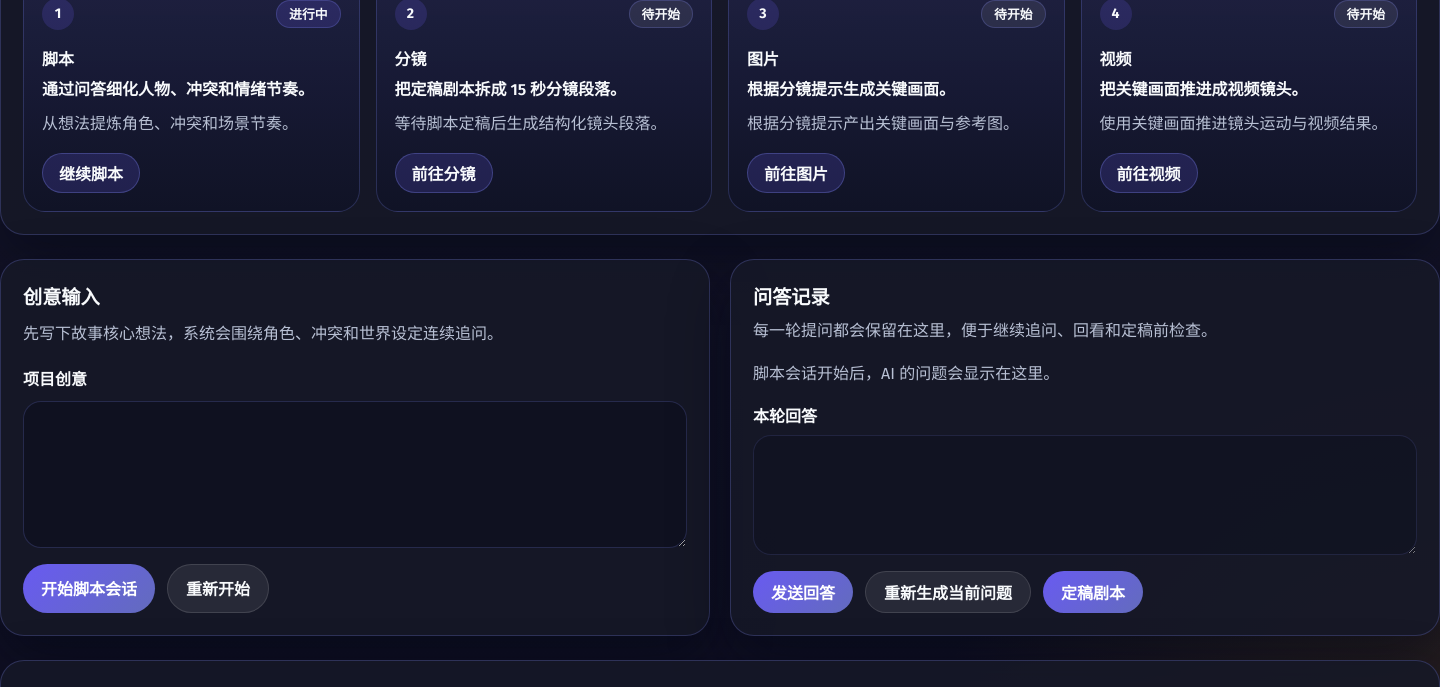
Test case: project script page › clears the editable idea input when resetting the session
(page scrolled)
Type "Updated session idea" into the text box named "Script idea input" at (355, 475), box [23,401,687,548]
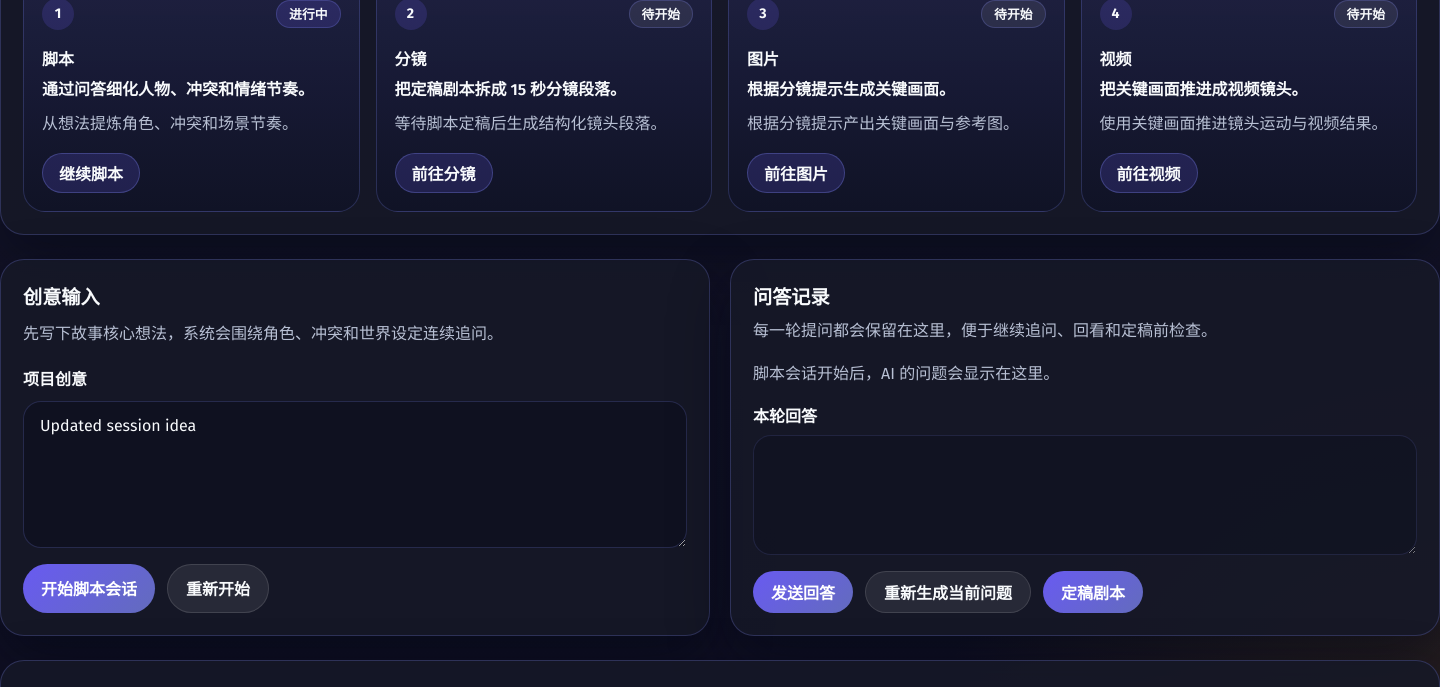
Click the button with aria-label "Reset script session" at (218, 588), box [167,564,269,613]
(page scrolled)
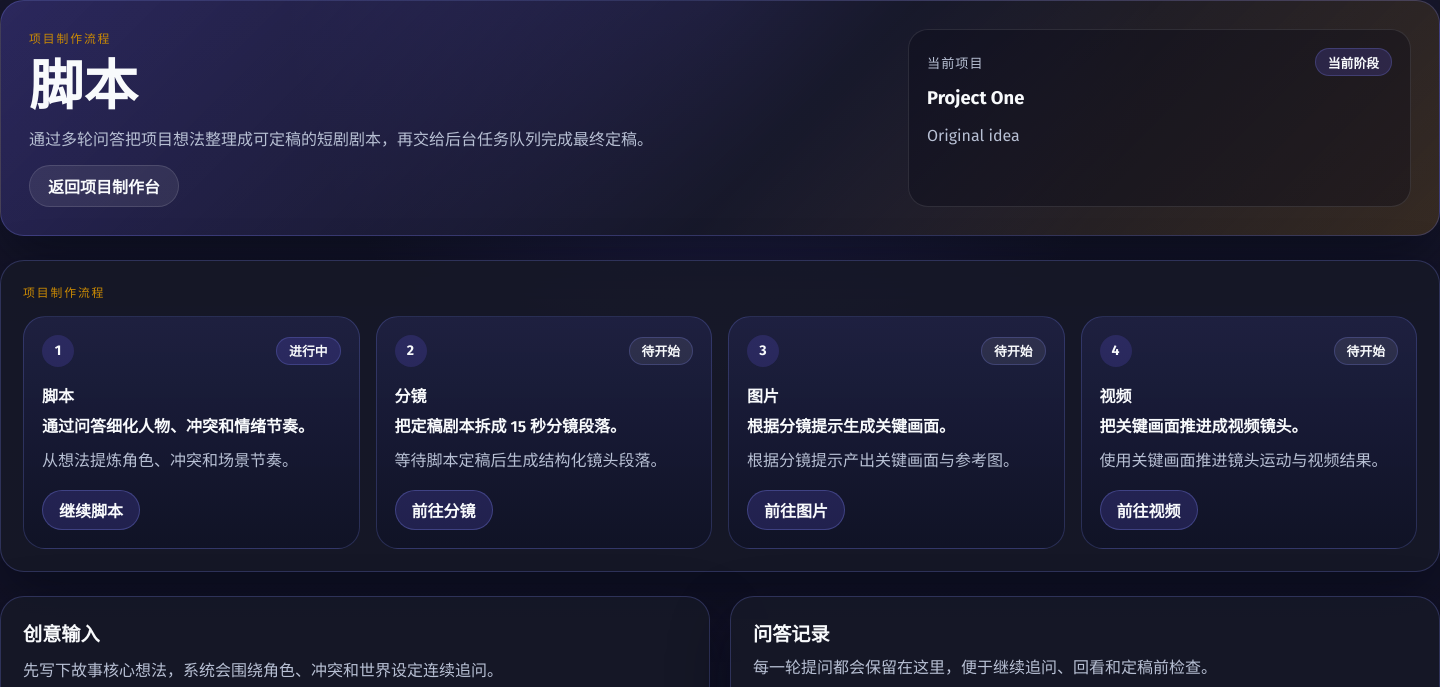
expect the text "Original idea" is shown: met, box [927,126,1020,145]
